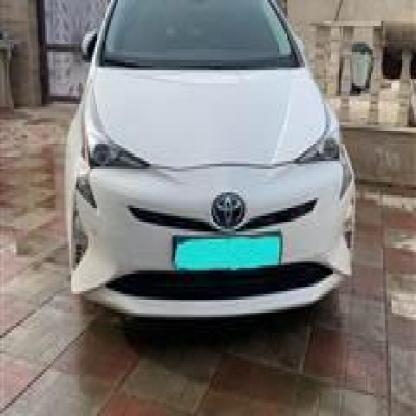Car: (52, 0, 361, 341)
